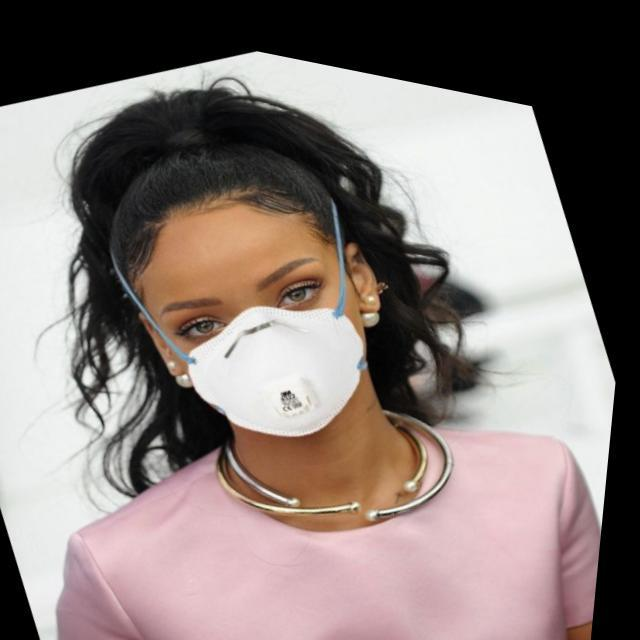Nonhelmet: (46, 75, 420, 452)
